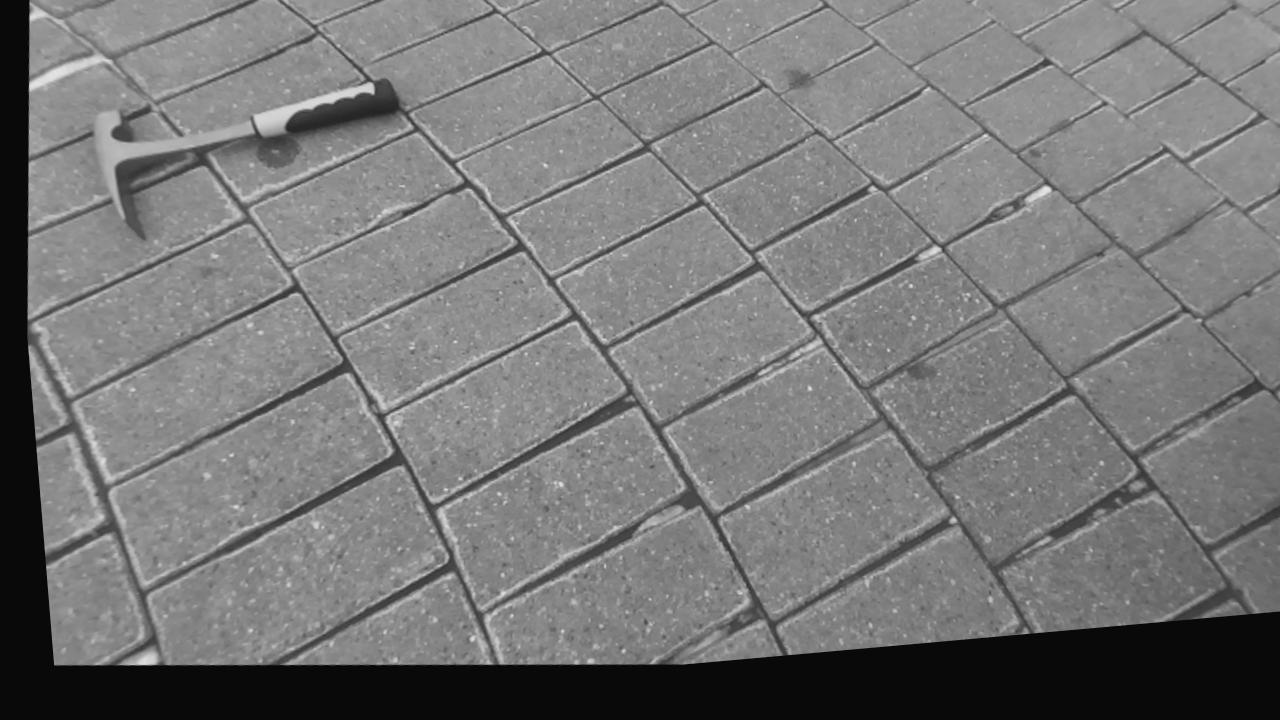pick: (94, 79, 400, 238)
